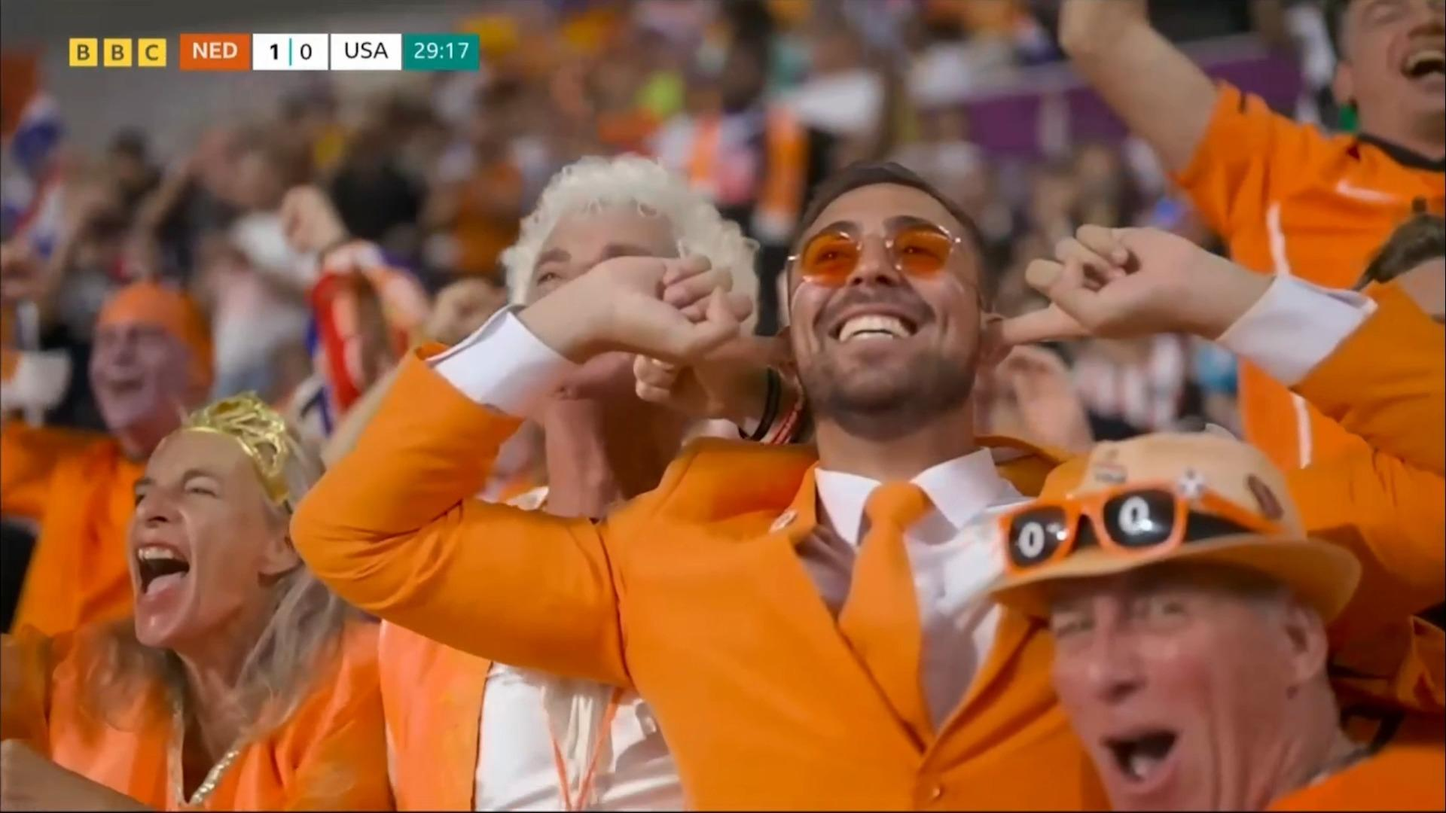Player: (415, 161, 1135, 800), (1031, 1, 1444, 687), (3, 392, 397, 807), (4, 277, 218, 641)
